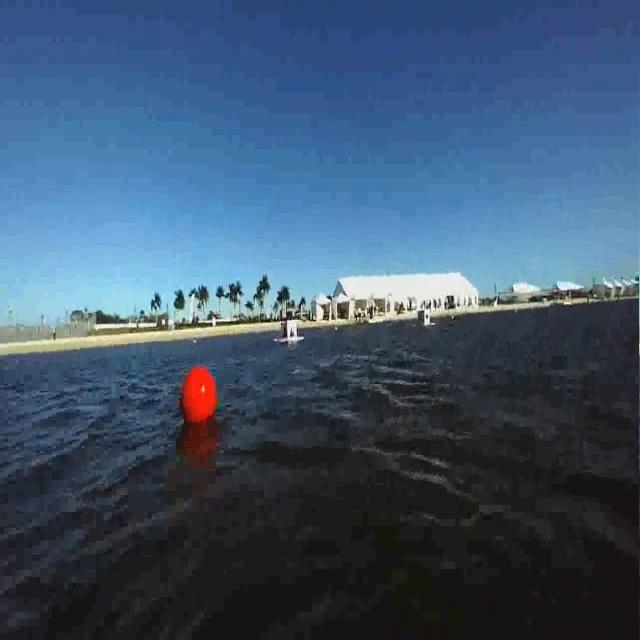red-buoy: (180, 367, 217, 429)
